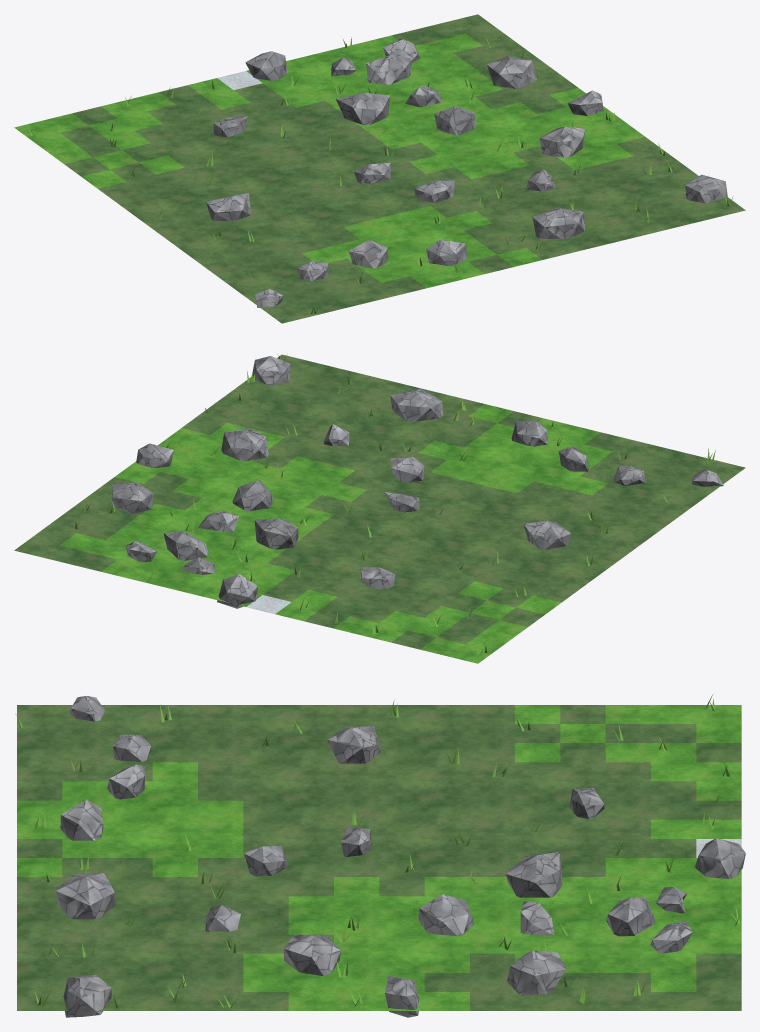
File: chunk_9_2.glb
3 renders of one model, top to bottom at view 1: azimuth 30°, elevation 25°; view 2: azimuth 150°, elevation 25°; view 3: azimuth 270°, elevation 25°, orthographic. The views are drawn at different scales.
Visible parts, largest first — view 1: chunk_9_2; view 2: chunk_9_2; view 3: chunk_9_2.
Boxes of the visible parts, left/top/right/bottom form: chunk_9_2: left=14, top=14, right=745, bottom=323; chunk_9_2: left=14, top=354, right=745, bottom=663; chunk_9_2: left=15, top=693, right=745, bottom=1017.
Size of the model in its own units: 16.16 by 1.24 by 16.16.
5 materials, 4 textured.
